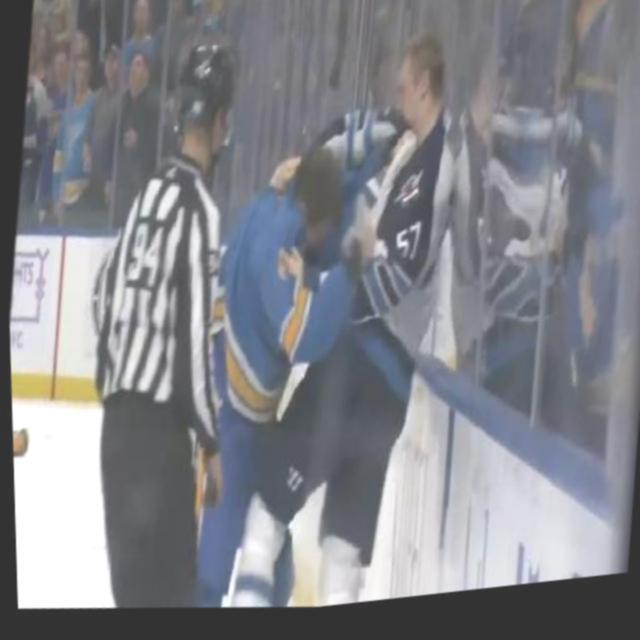fight: (188, 37, 471, 594)
